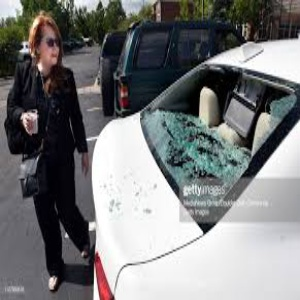rear_windshield_glass: (143, 84, 288, 166)
